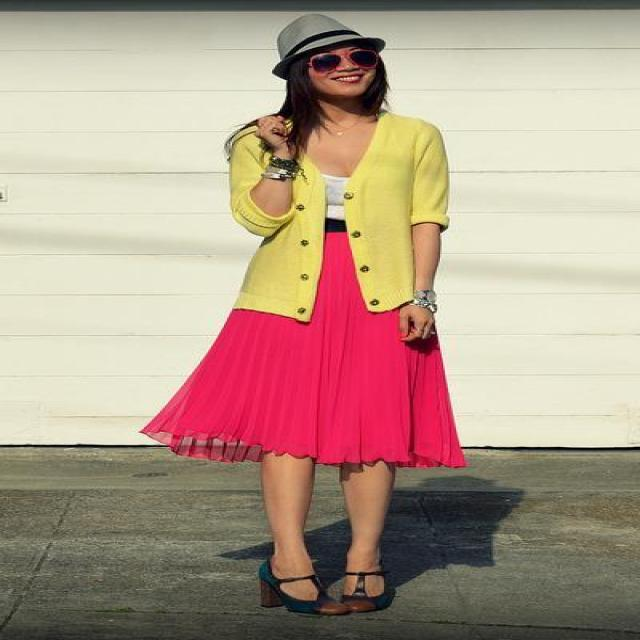dress: (139, 174, 466, 466)
hat: (277, 13, 384, 63)
jacket: (226, 115, 448, 319)
shoe: (259, 576, 394, 617)
sunglass: (292, 38, 358, 72)
